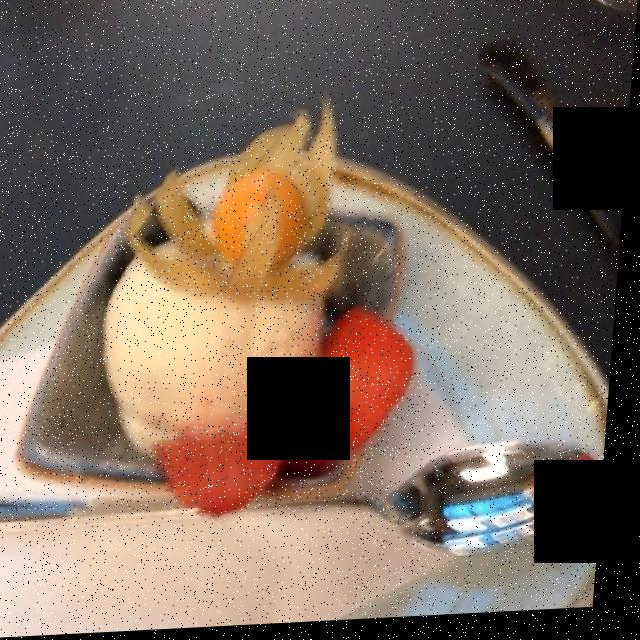strawberries: (160, 319, 417, 512)
